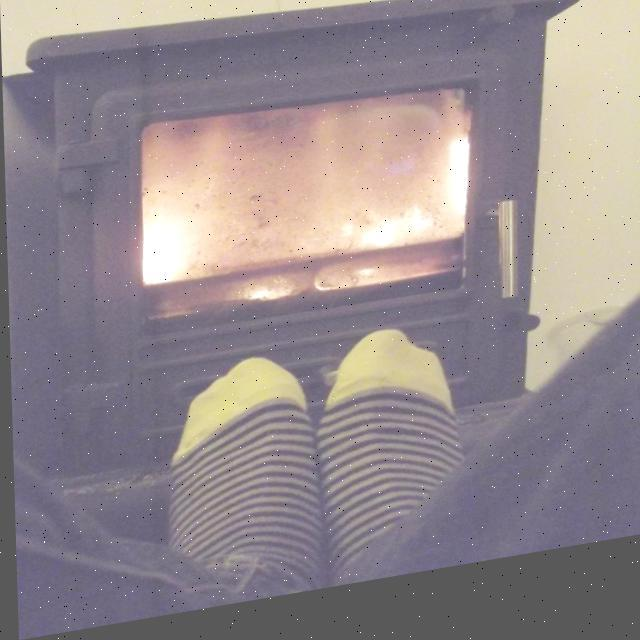Fire: (133, 90, 468, 296)
